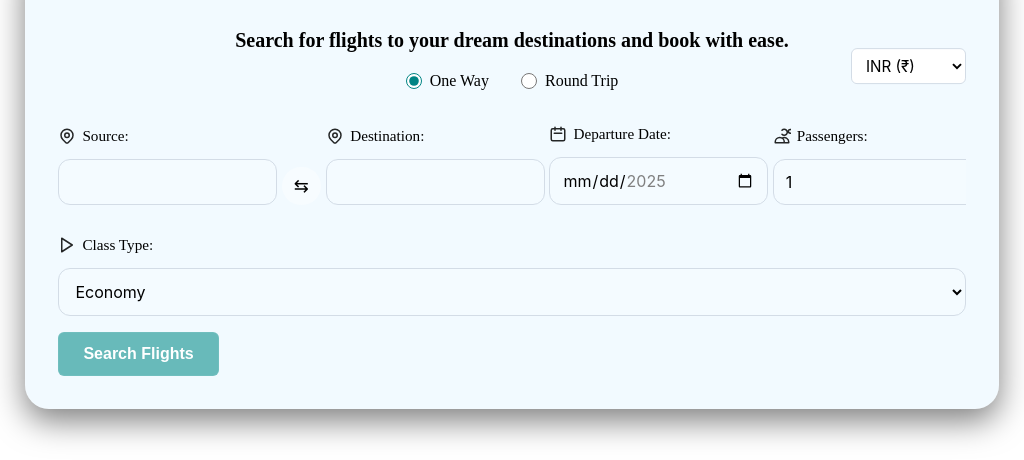
Scenario: Test for FlightSearchForm /> › swaps source and destination when swap button is clicked
Type "Bangalore" into the field labelled "Source:". click: coordinates (168, 182)
box: [58,159,277,205]
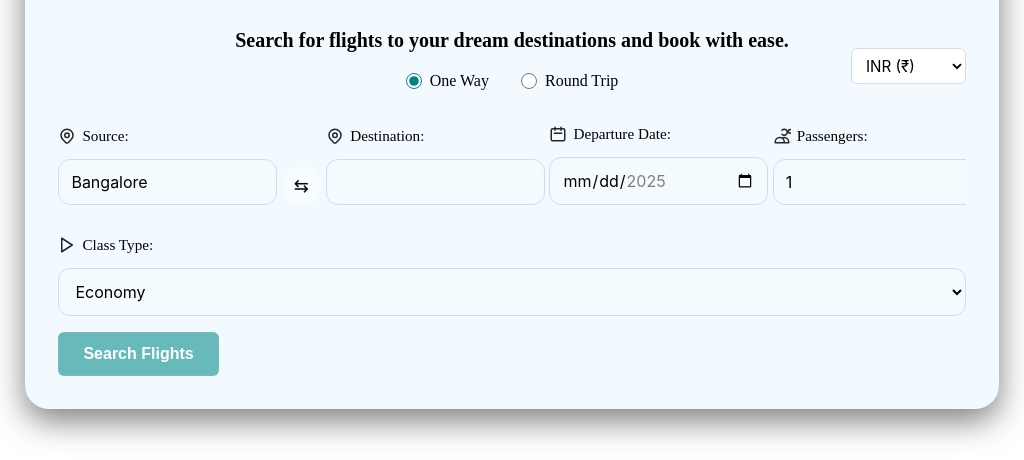
Type "London" into the field labelled "Destination:". click: coordinates (436, 182)
box: [326,159,545,205]
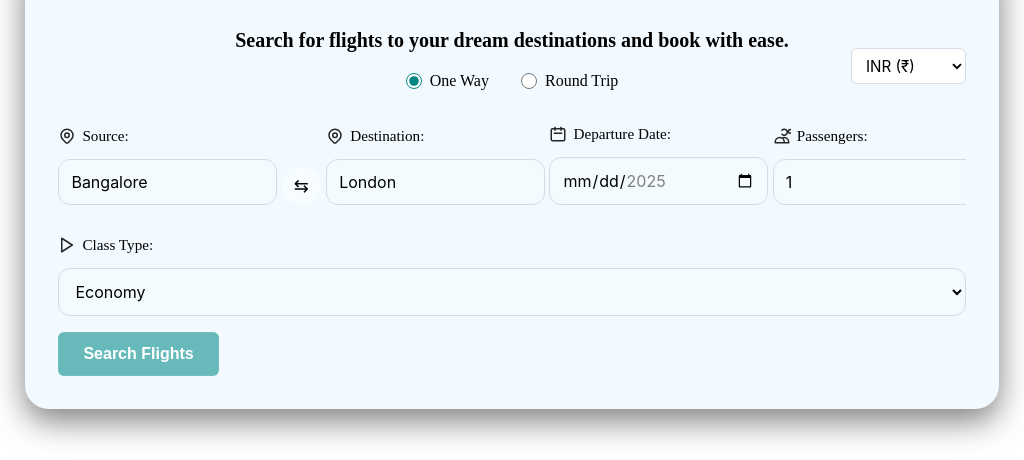
Click the button named "swap". click: coordinates (301, 186)
box: [282,167,321,205]
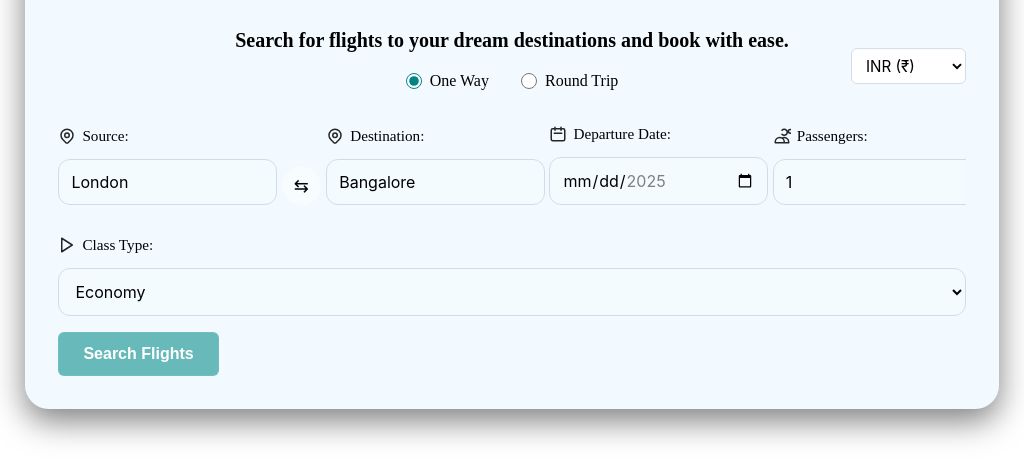
Expected: the field labelled "Source:" holds "London", [58,159,277,205]
Expected: the field labelled "Destination:" holds "Bangalore", [326,159,545,205]
